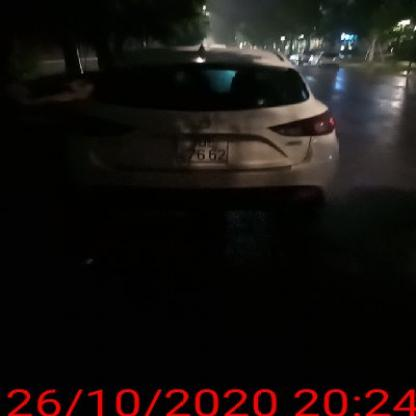biensoxe: (171, 135, 233, 168)
